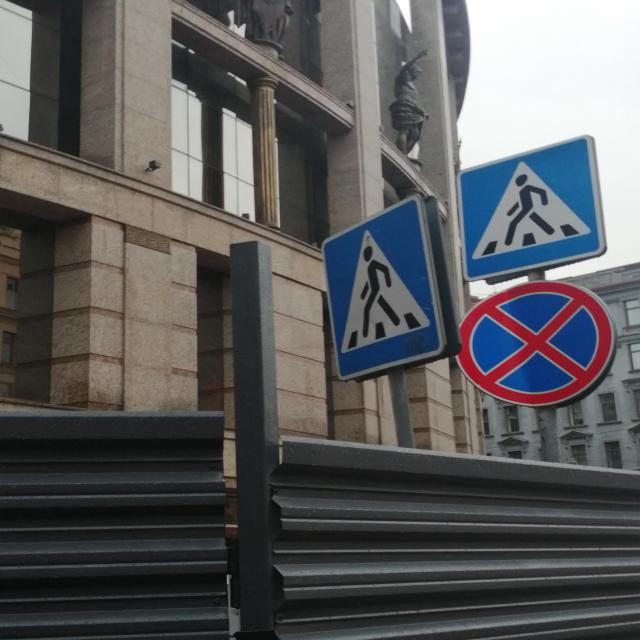road sign: (323, 196, 447, 382), (454, 135, 599, 281), (388, 371, 418, 448)
